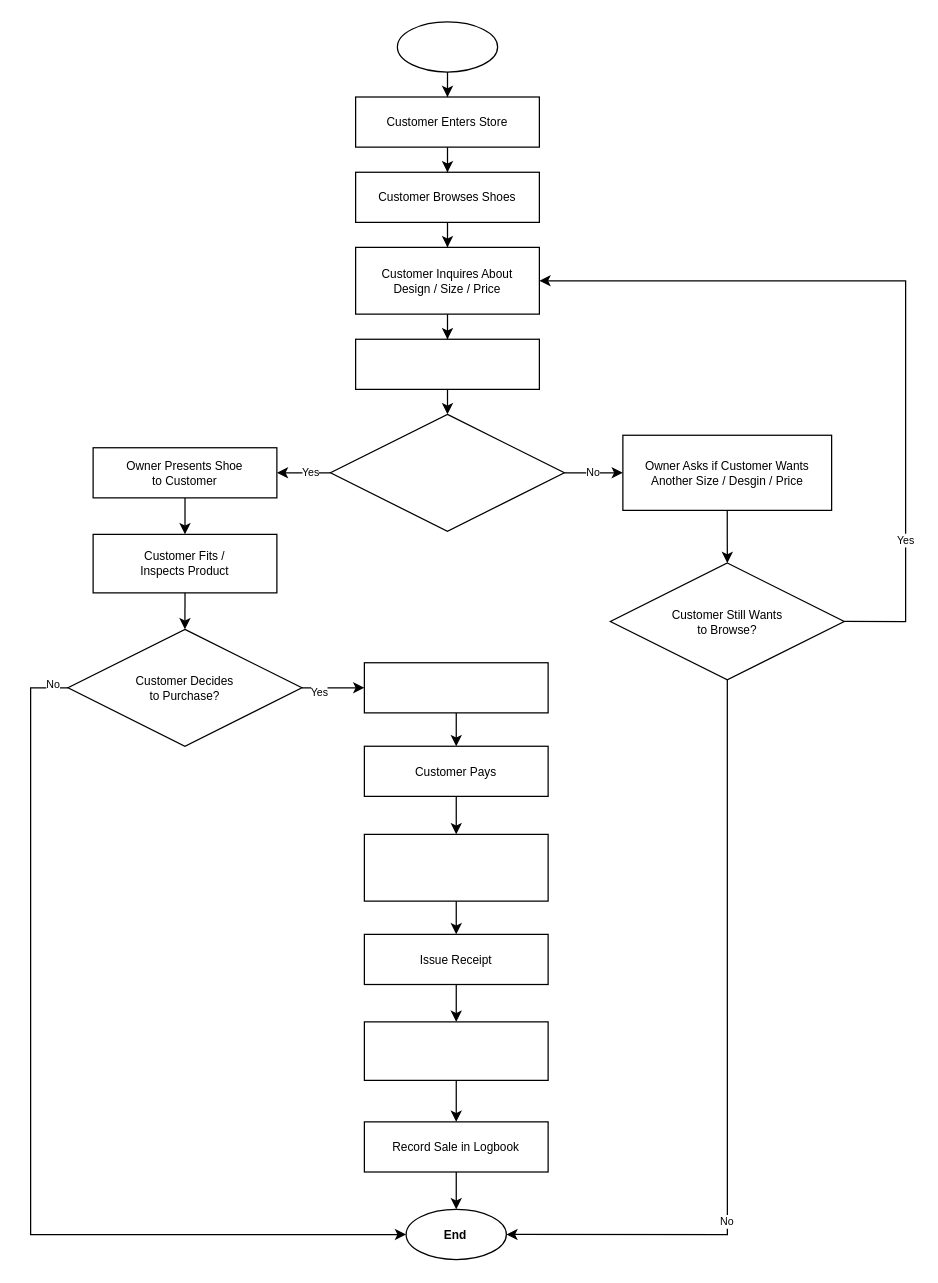
The diagram is 938 pixels wide and 1283 high, and some of its shapes have lost their labels. The centre of each missing label's shape, as x and y in pixels:
"Owner Checks Stocks Manually" goes at [446,363].
"Owner Confirms Price" goes at [455,687].
"Owner Receives Payment and Gives Change" goes at [455,867].
"Requested Desgin / Size / Price?" goes at [446,472].
"Start" goes at [447,46].
"Update Inventory Record Manually" goes at [455,1050].
